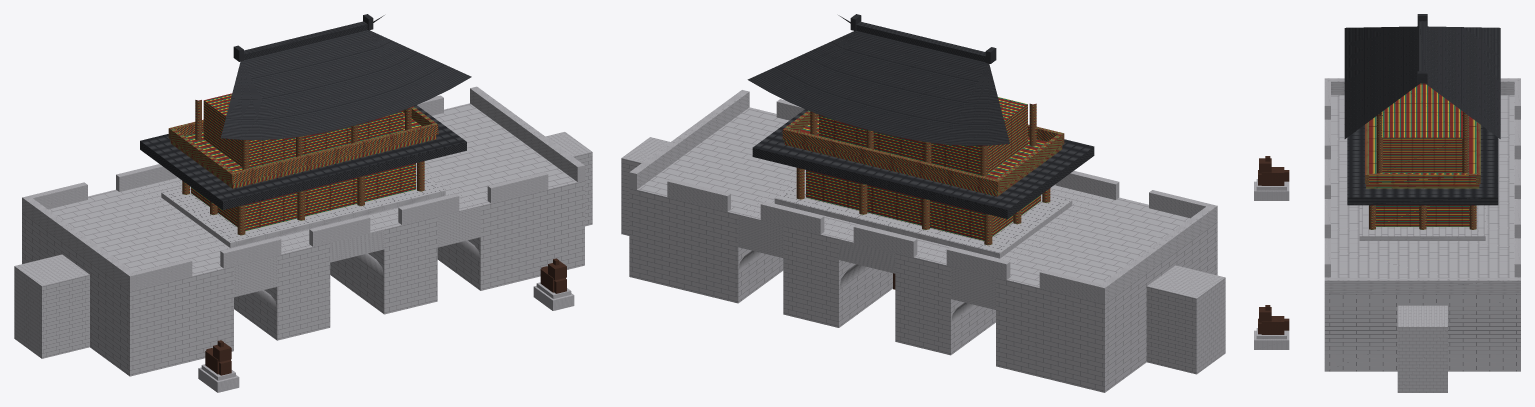
3 views of the same model, side by side, from view 1: azimuth 30°, elevation 25°; view 2: azimuth 150°, elevation 25°; view 3: azimuth 270°, elevation 25° (orthographic). The views are drawn at different scales.
Visible parts, largest first — view 1: node_mesh_yukchuk, node_mesh_pavilion, node_mesh_haetae; view 2: node_mesh_yukchuk, node_mesh_pavilion; view 3: node_mesh_yukchuk, node_mesh_pavilion, node_mesh_haetae.
Boxes of the visible parts, box(x1,y1,x2,y2) form: node_mesh_yukchuk: box(14, 86, 592, 376); node_mesh_pavilion: box(140, 14, 471, 247); node_mesh_haetae: box(198, 258, 574, 392); node_mesh_yukchuk: box(621, 90, 1225, 392); node_mesh_pavilion: box(747, 14, 1094, 258); node_mesh_yukchuk: box(1324, 78, 1520, 392); node_mesh_pavilion: box(1344, 14, 1500, 240); node_mesh_haetae: box(1254, 156, 1289, 349).
Bounding box in the file's own units: 46 × 19.9 × 21.2.
Materials: 4 (4 with a texture image).
